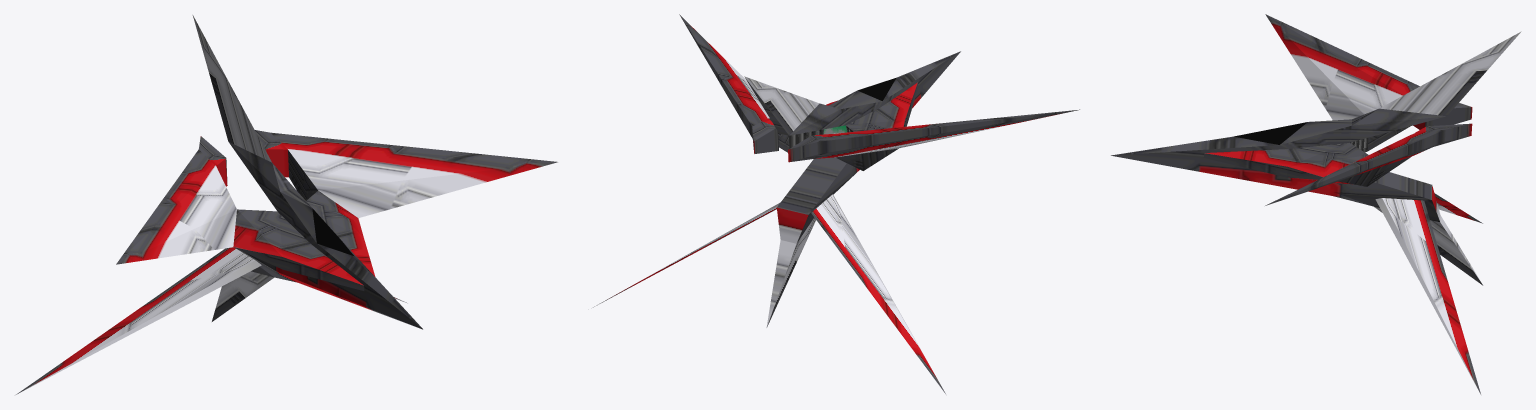
File: BlackRose.obj
3 views of the same model, side by side, from view 1: azimuth 30°, elevation 25°; view 2: azimuth 150°, elevation 25°; view 3: azimuth 270°, elevation 25° (orthographic). The views are drawn at different scales.
Visible parts, largest first — view 1: Melon_Rip; view 2: Melon_Rip; view 3: Melon_Rip.
Boxes of the visible parts, <box> form: Melon_Rip: <box>16,15,557,394</box>; Melon_Rip: <box>593,14,1079,393</box>; Melon_Rip: <box>1111,14,1521,394</box>.
Bounding box in the file's own units: 62.33 × 43.24 × 57.35.
4 materials, 3 textured.
